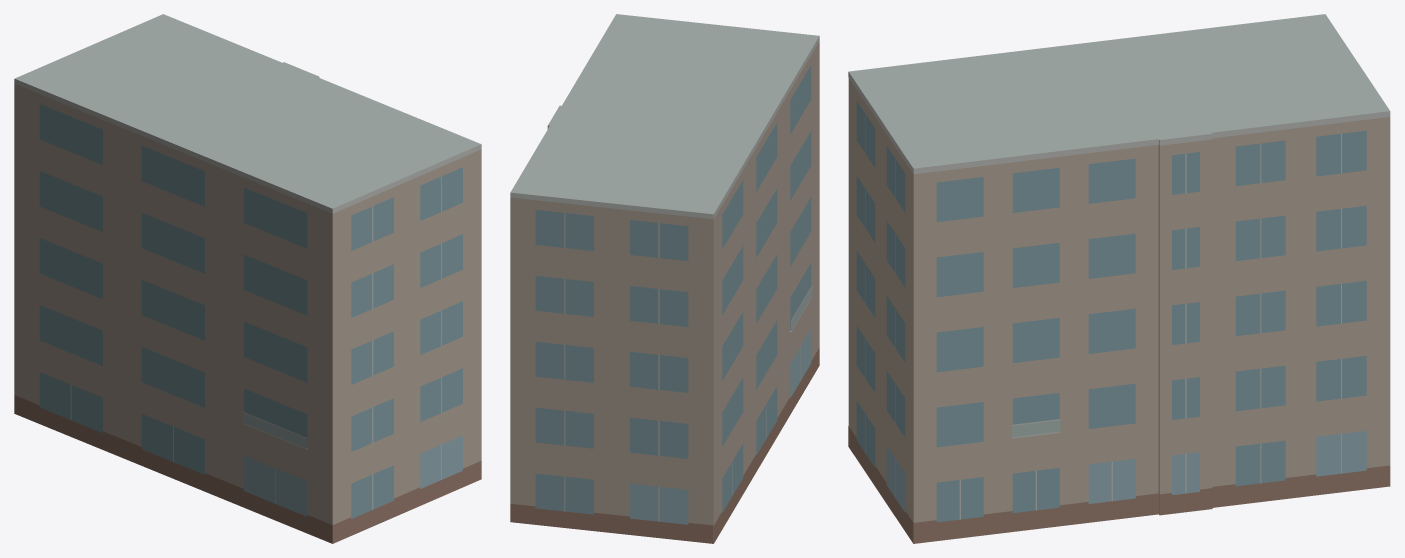
File: survey-upis-33041480.glb
The picture shows the model from 3 angles, left to right: view 1: azimuth 30°, elevation 25°; view 2: azimuth 150°, elevation 25°; view 3: azimuth 270°, elevation 25°; orthographic projection. The views are drawn at different scales.
Parts seen in each view (by area): view 1: survey-upis-33041480.tmp; view 2: survey-upis-33041480.tmp; view 3: survey-upis-33041480.tmp.
Part boxes in pixels (x1,y1,x2,y2): survey-upis-33041480.tmp: (14, 14, 481, 543); survey-upis-33041480.tmp: (510, 14, 819, 543); survey-upis-33041480.tmp: (848, 14, 1390, 543).
Size of the model in its own units: 14.33 by 16.2 by 21.21.
